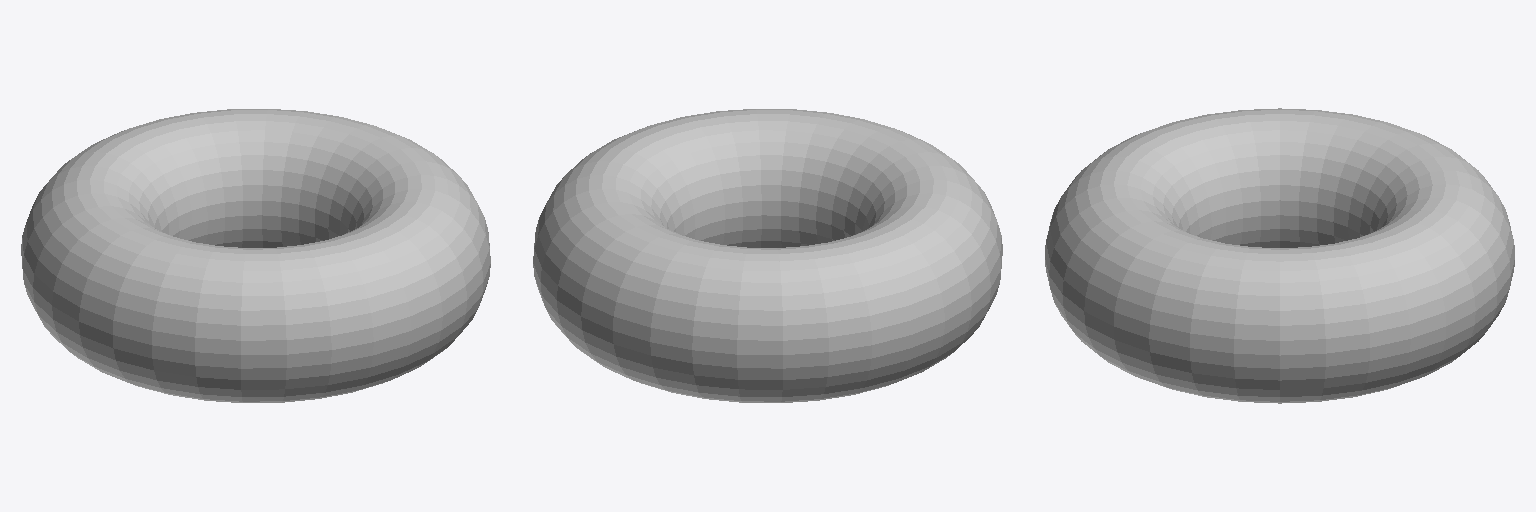
File: torus32_smoothed_80.obj
3 renders of one model, left to right at view 1: azimuth 30°, elevation 25°; view 2: azimuth 150°, elevation 25°; view 3: azimuth 270°, elevation 25°, orthographic.
Size of the model in its own units: 9.58 by 3.22 by 9.58.